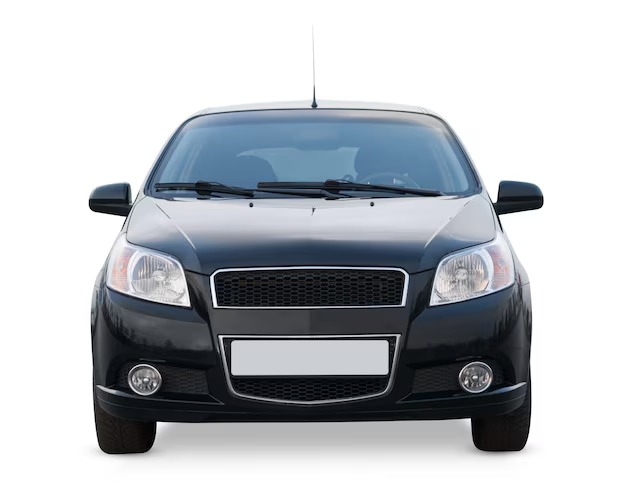car: (82, 104, 537, 442)
